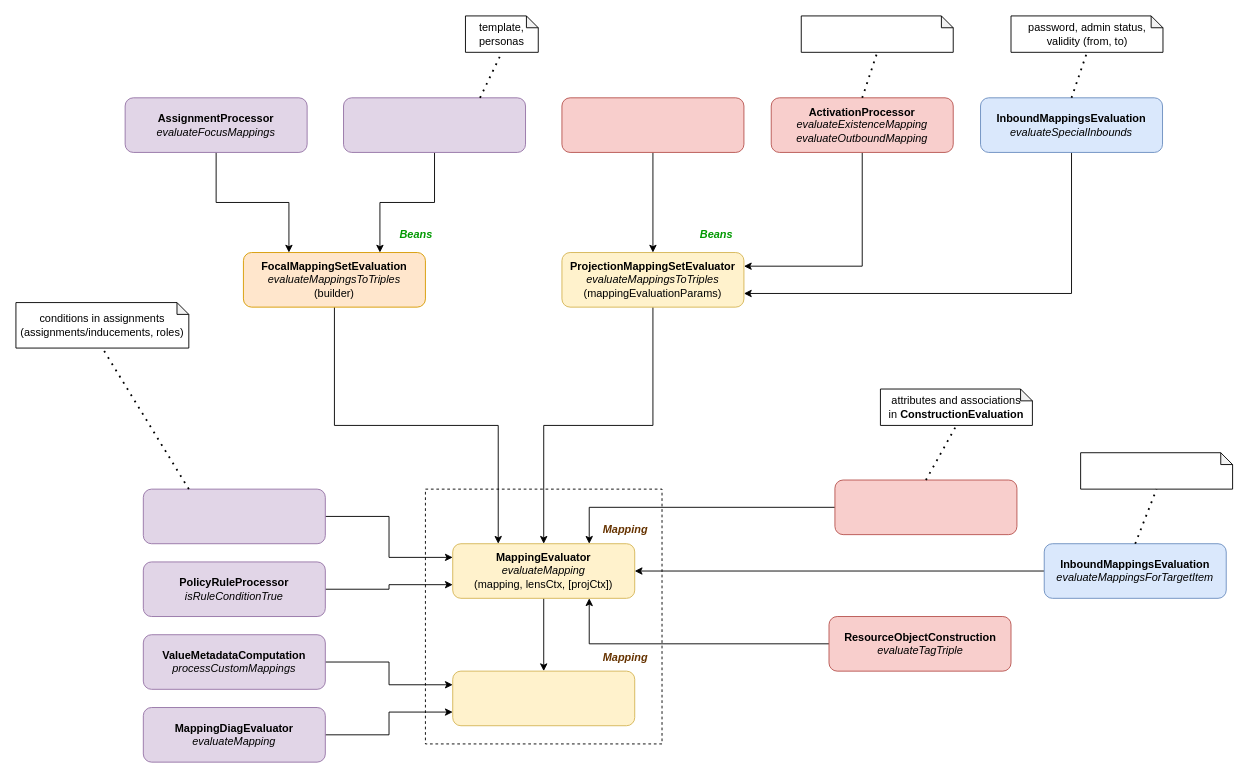
Some shapes in this 1249 by 778 pixel diagram are drawn without their labels. The shapes that lost their labels are listed below. From the top down, each one's centre as x and y in pixels, then its label:
At (x=876, y=33): "existence + activation mappings".
At (x=434, y=124): "TemplateMappingsEvaluation computeItemDeltas".
At (x=652, y=124): "ProjectionCredentialsProcessor processProjectionPasswordMapping".
At (x=1156, y=470): "attributes and associations".
At (x=233, y=516): "ConditionEvaluator computeConditionState".
At (x=925, y=507): "ItemEvaluation evaluateMapping".
At (x=543, y=698): "AbstractMappingImpl evaluate (task, result)".
